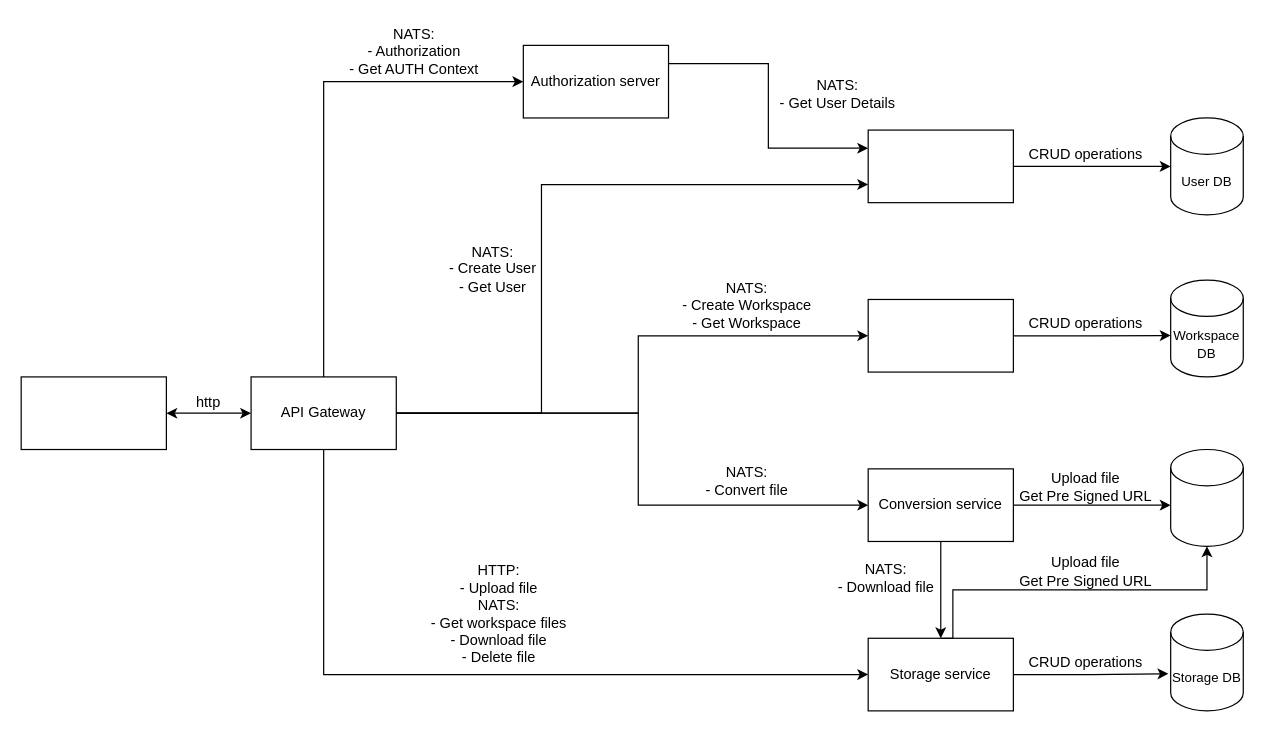
Some shapes in this 1264 by 732 pixel diagram are drawn without their labels. Here are the shapes that lost their labels. From the top down, the box of each, then its label:
(867, 129, 1013, 203): User service
(867, 298, 1013, 372): Workspace service
(20, 376, 166, 450): Web client
(1169, 448, 1243, 546): S3
